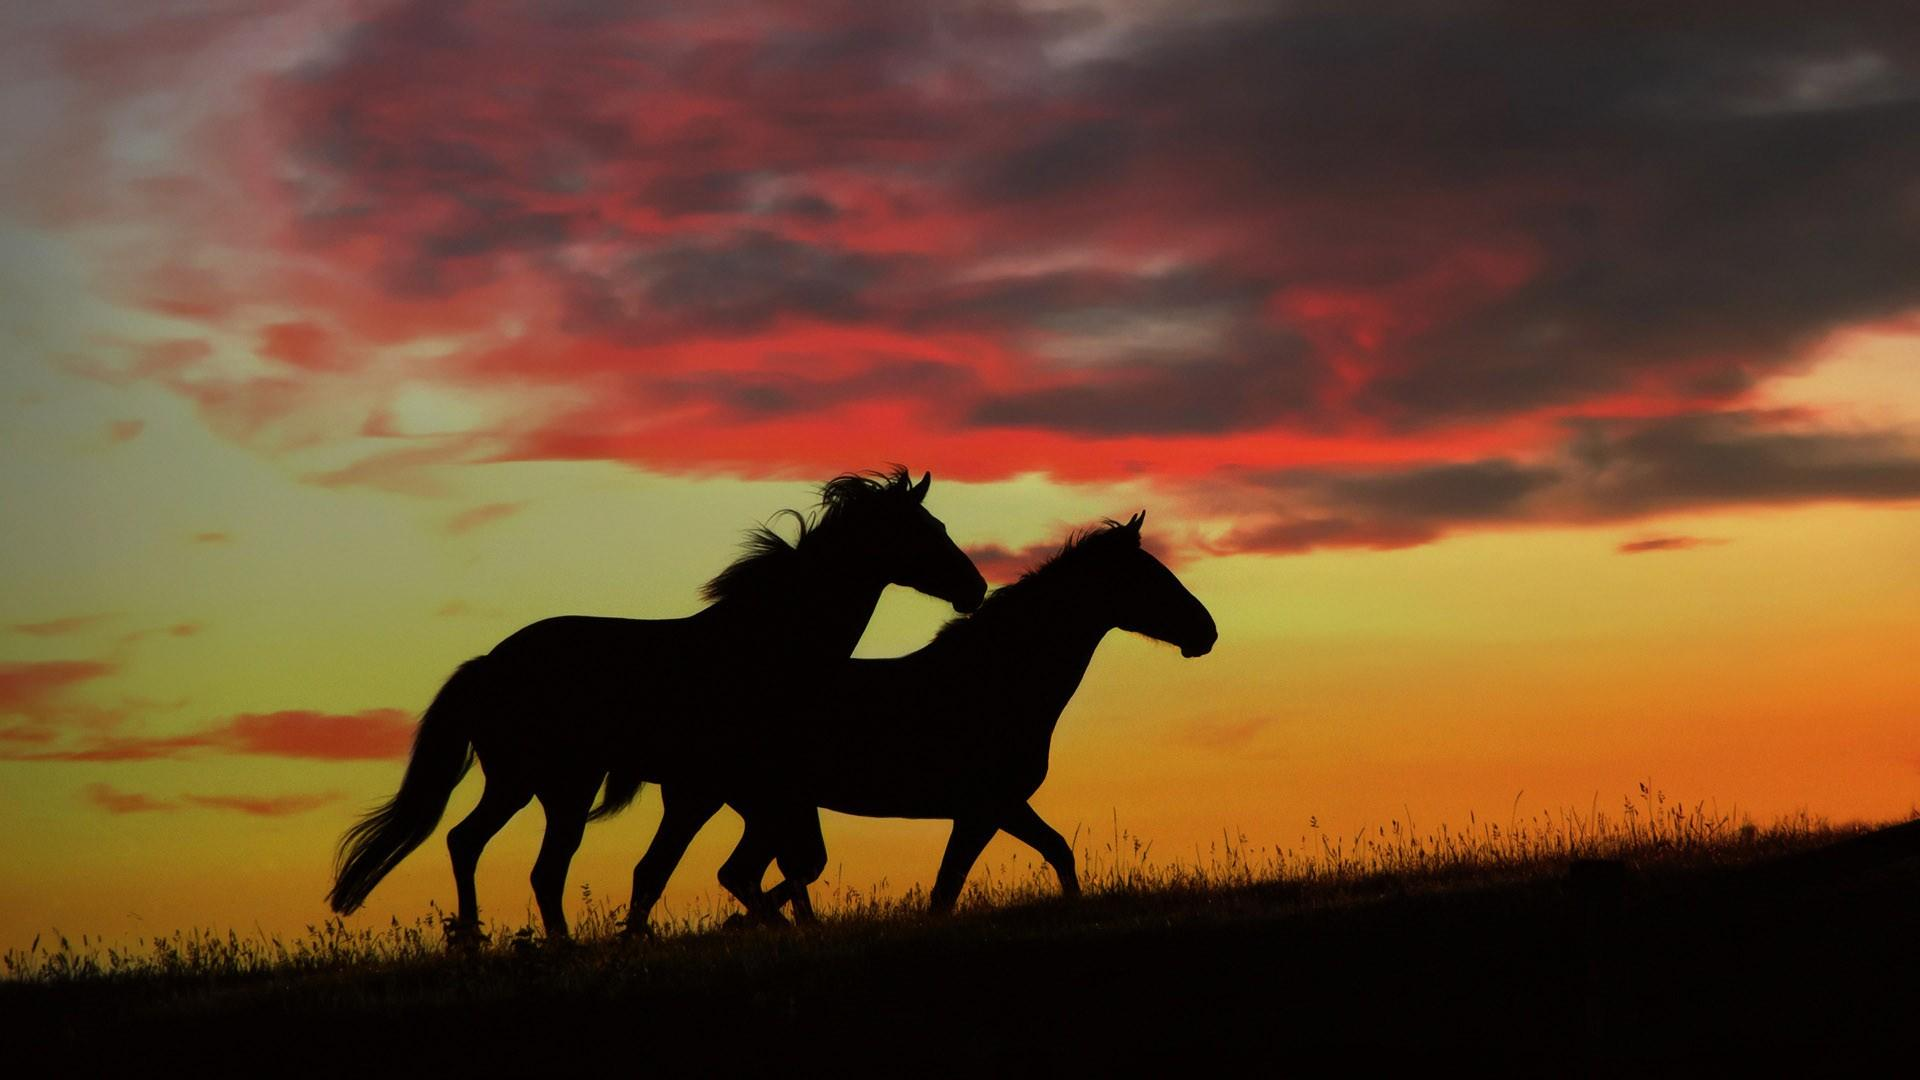horse: (324, 467, 996, 947), (669, 509, 1218, 924)
